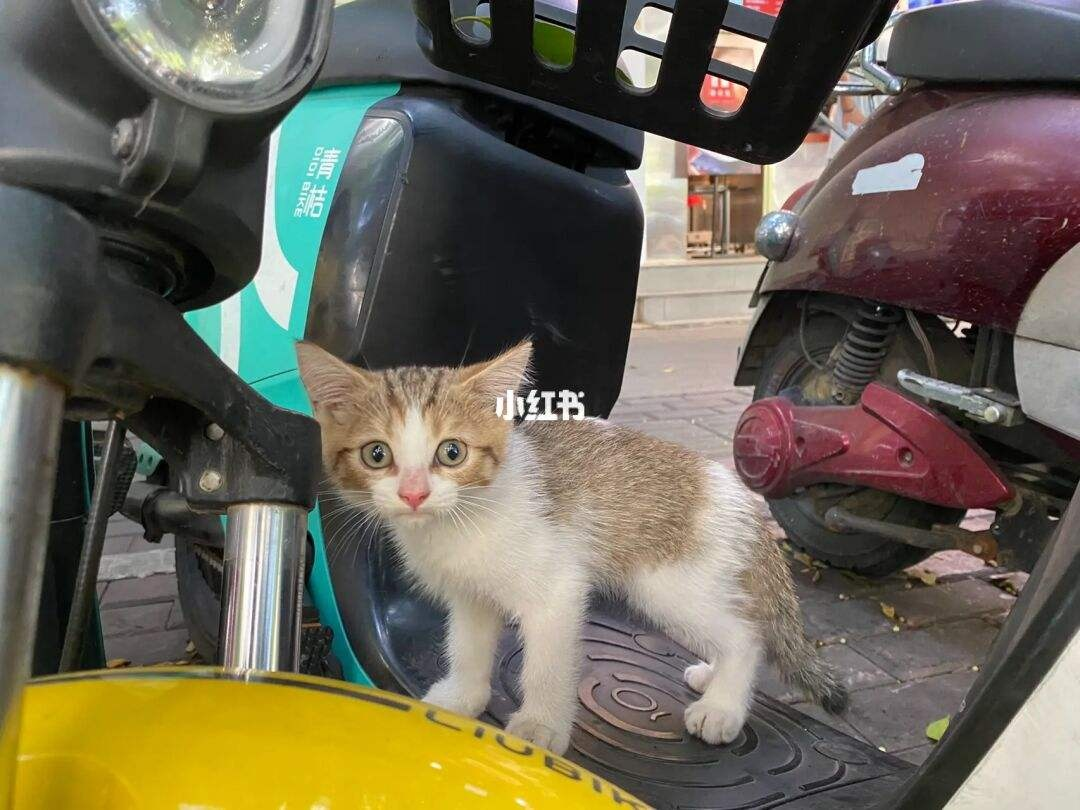cat: (294, 333, 851, 756)
